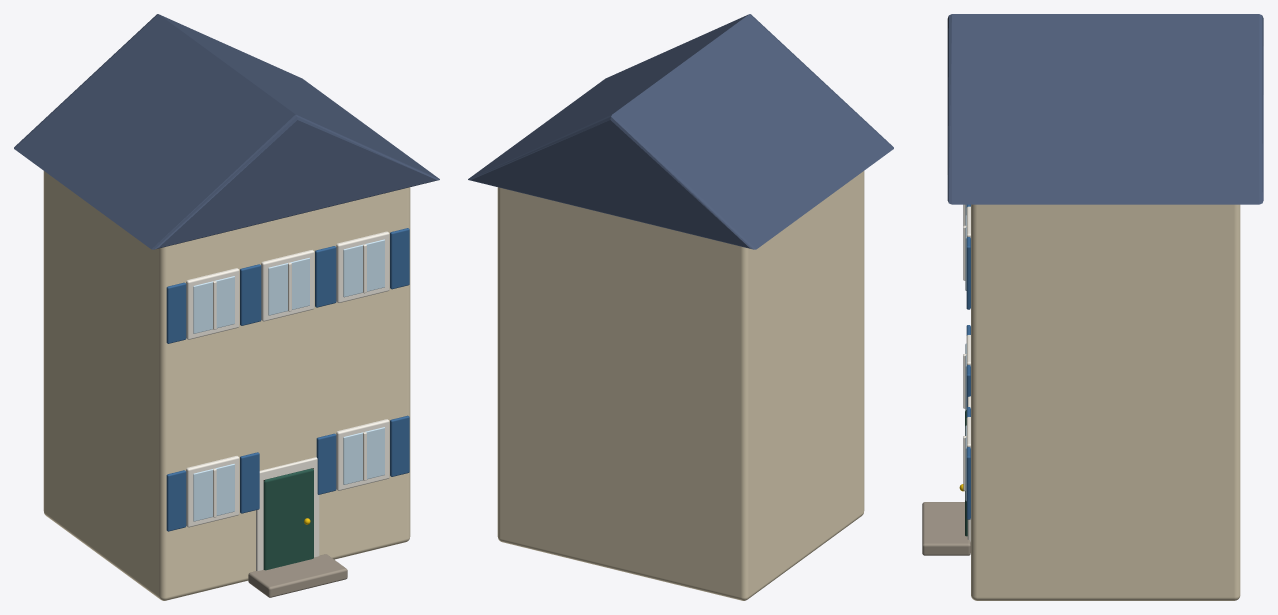
Rendered from maison_creme_ardoise.glb.
3 views of the same model, side by side, from view 1: azimuth 30°, elevation 25°; view 2: azimuth 150°, elevation 25°; view 3: azimuth 270°, elevation 25° (orthographic). The views are drawn at different scales.
Parts seen in each view (by area): view 1: house; view 2: house; view 3: house.
Boxes of the visible parts, <box> form: house: <box>14,14,439,600</box>; house: <box>468,14,893,600</box>; house: <box>922,14,1263,600</box>.
Bounding box in the file's own units: 6.92 × 10.66 × 6.33.
